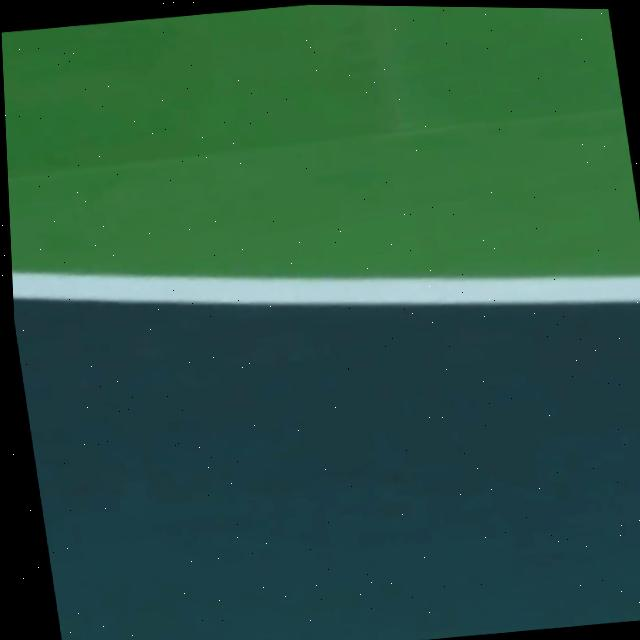right: (12, 272, 640, 305)
